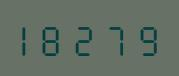eight: (46, 20, 73, 56)
nine: (130, 20, 157, 56)
one: (18, 20, 45, 56)
seven: (102, 20, 129, 56)
two: (74, 20, 101, 56)
